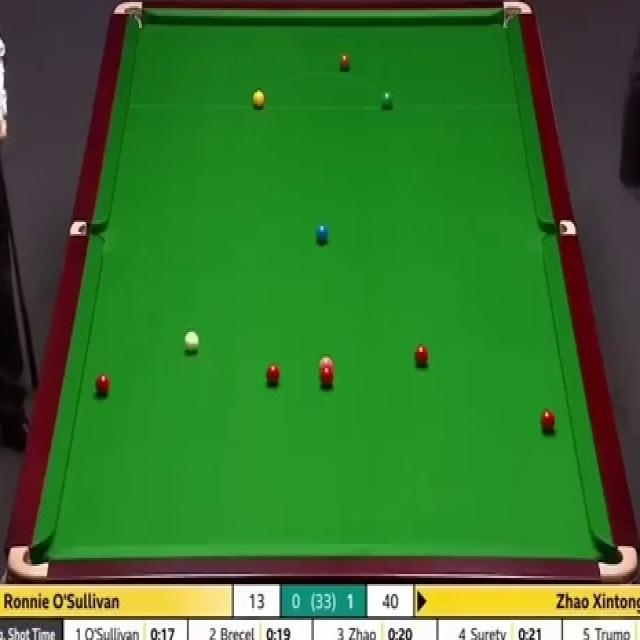pocket: (7, 540, 52, 580), (597, 542, 639, 580), (110, 0, 145, 32), (501, 0, 534, 29), (540, 220, 577, 240), (71, 222, 103, 236)
